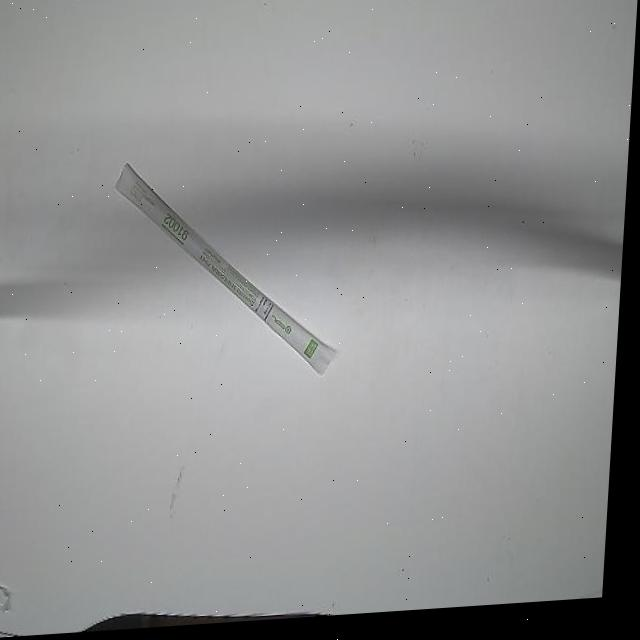Serelogical Pipet 2 mL - Sealed: (106, 147, 353, 394)
